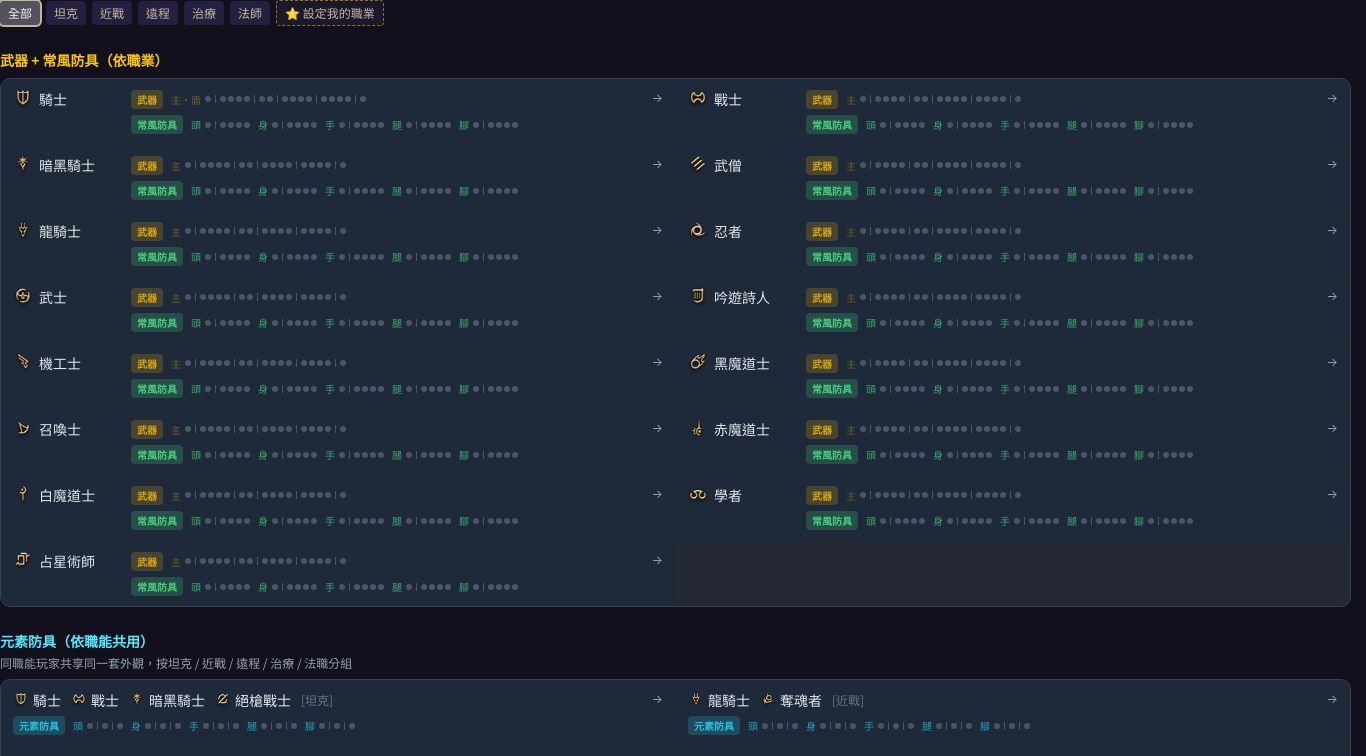
Test: OverviewTab › role filter chips › main jobs chip › clicking the prompt opens the picker dialog
Click the button "⭐ 設定我的職業" at (330,13), box [276,0,384,26]
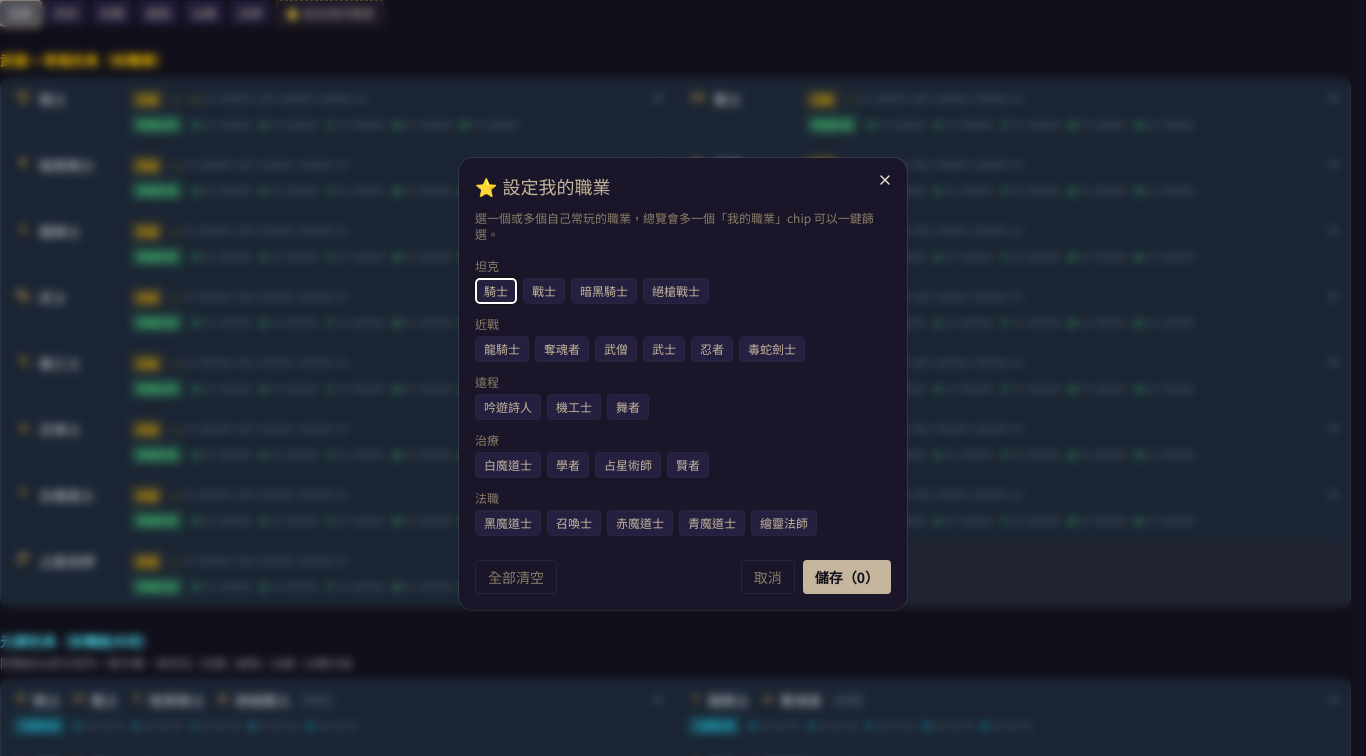
Now the dialog "設定我的職業" is shown, box [459,158,907,610]
